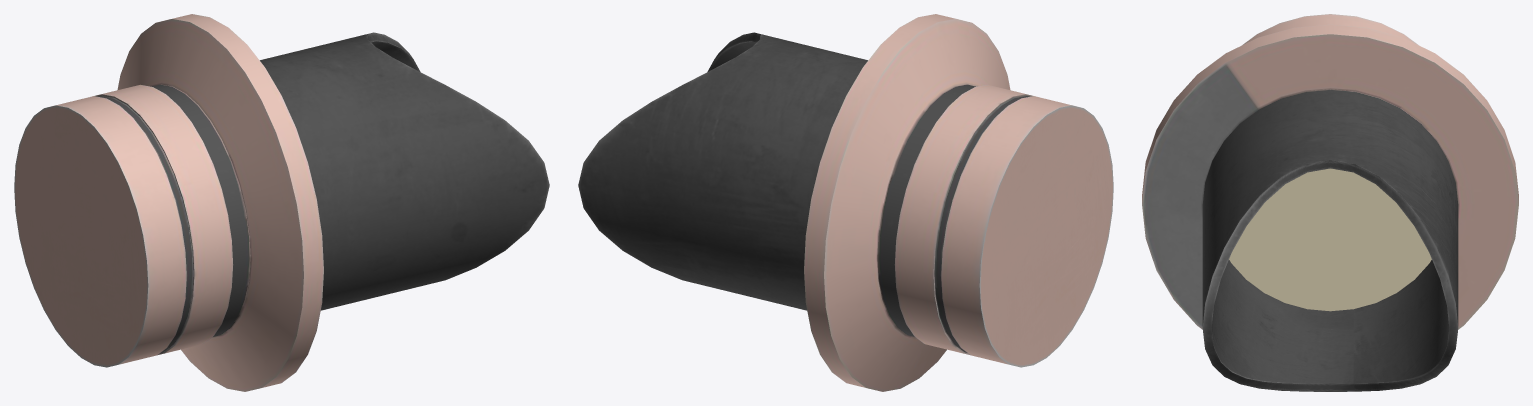
The model's file is guard_6_c_c.glb.
3 renders of one model, left to right at view 1: azimuth 30°, elevation 25°; view 2: azimuth 150°, elevation 25°; view 3: azimuth 270°, elevation 25°, orthographic.
Visible parts, largest first — view 1: guard_6_c_c_lod0; view 2: guard_6_c_c_lod0; view 3: guard_6_c_c_lod0.
Boxes of the visible parts, x1,y1,x2,y2 form: guard_6_c_c_lod0: (14, 14, 549, 391); guard_6_c_c_lod0: (578, 14, 1113, 391); guard_6_c_c_lod0: (1142, 14, 1518, 391).
Size of what is drawn, in the model's own units: 0.0477 by 0.0391 by 0.0391.
Materials: 1 (1 with a texture image).
